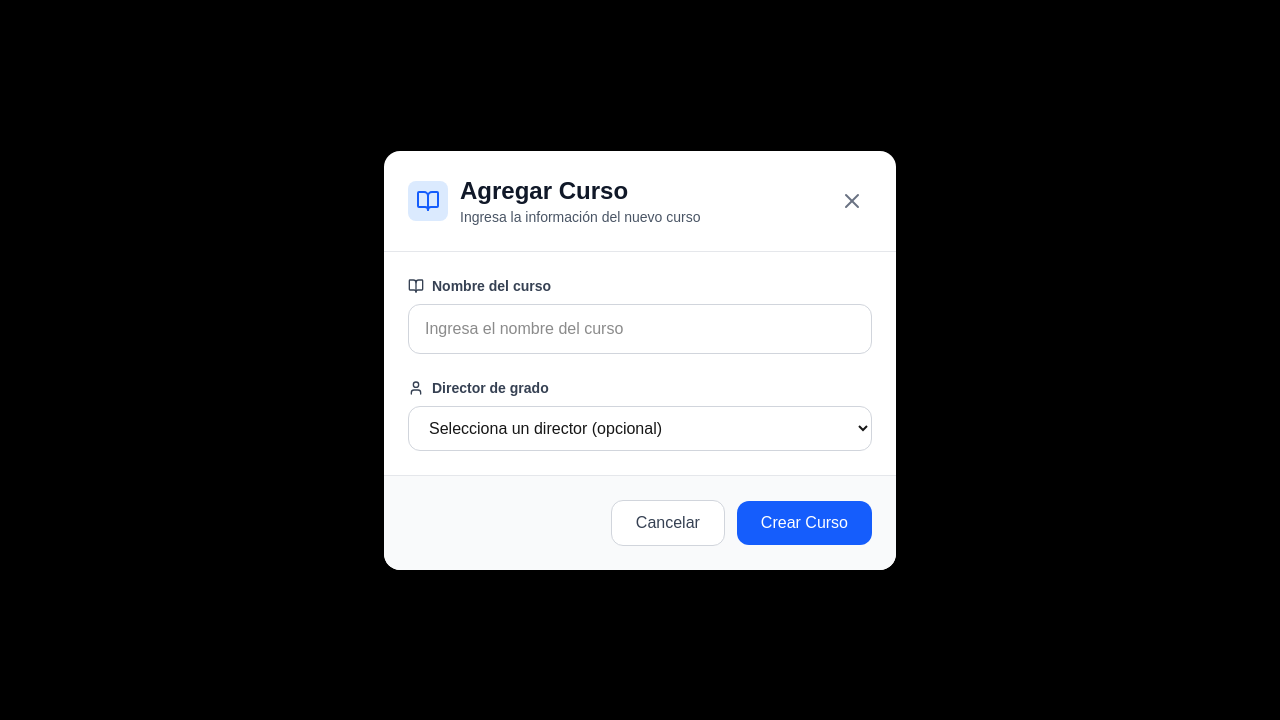
Test: CourseModal Component › shows validation error for empty course name
Click the button "Crear Curso". click: (804, 522)
box: x1=737 y1=500 x2=872 y2=544
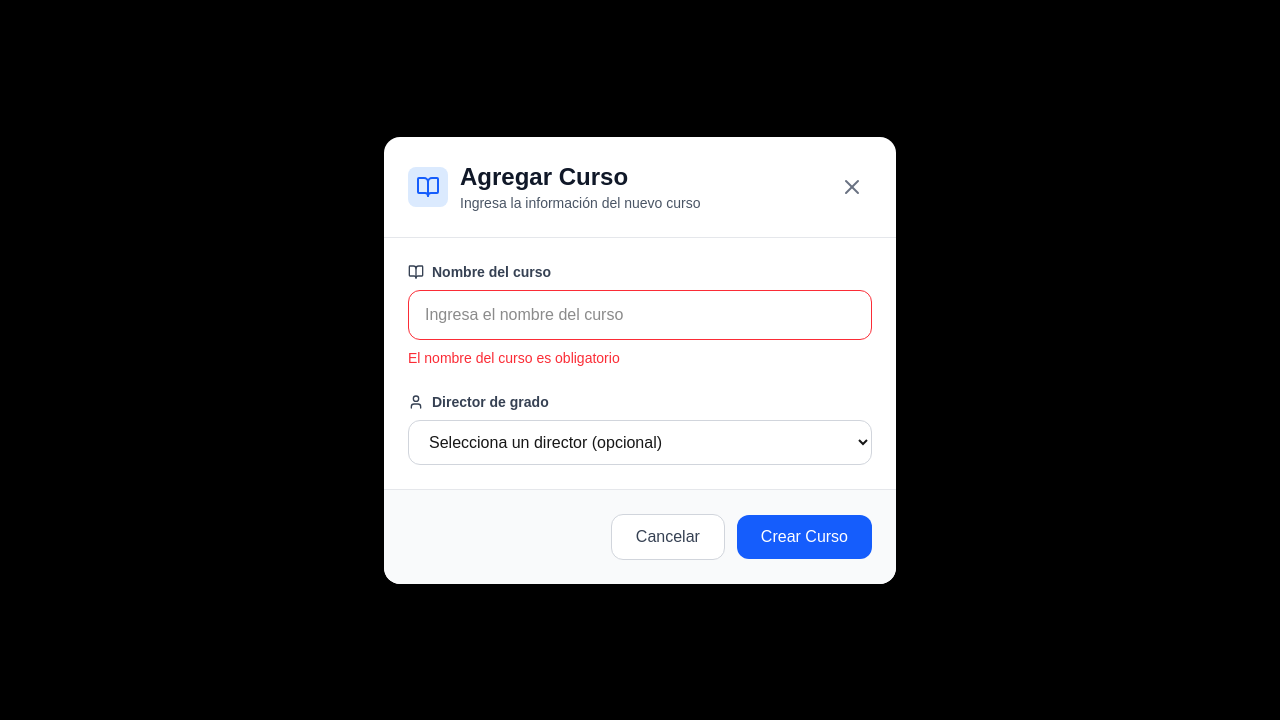
Check: the text "El nombre del curso es obligatorio" is shown, box x1=408 y1=350 x2=620 y2=366
